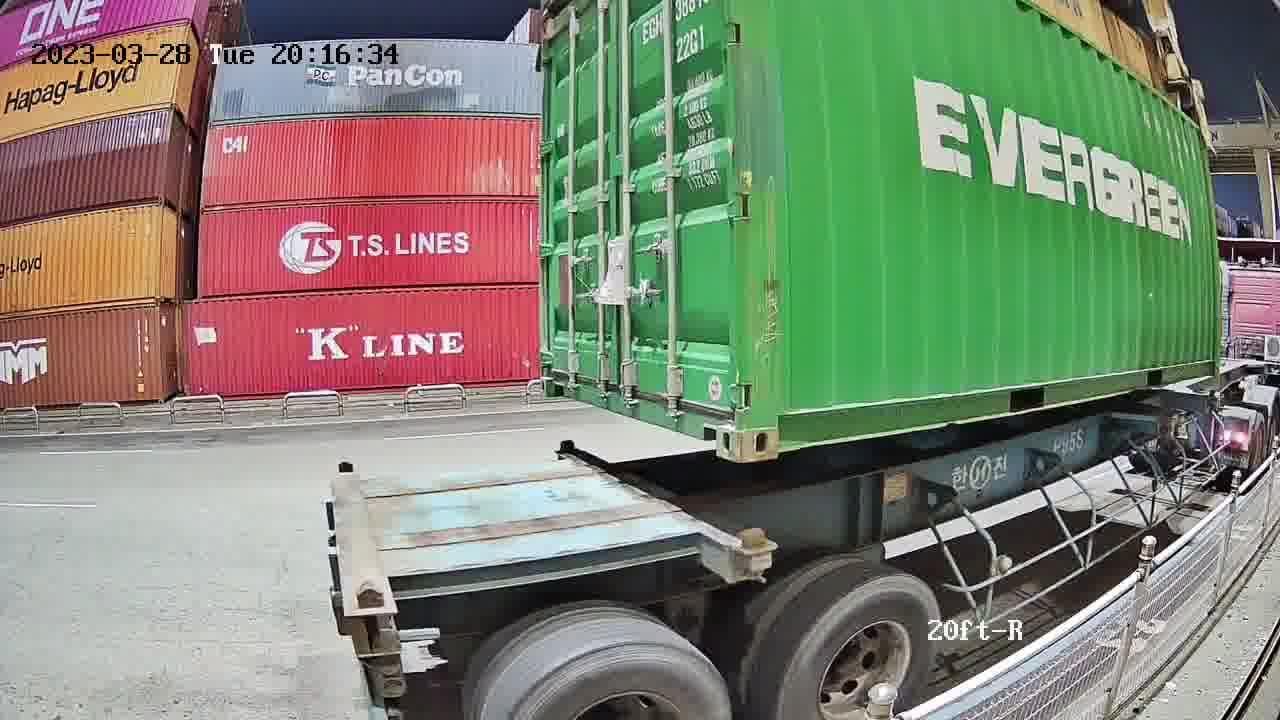Chassis: (553, 449, 777, 582)
Cone: (734, 526, 773, 581), (557, 437, 577, 452)
Hole_L: (740, 386, 808, 461), (540, 349, 575, 399)
Hole_R: (690, 384, 740, 461)
Tire: (777, 575, 939, 714), (504, 638, 730, 715)
